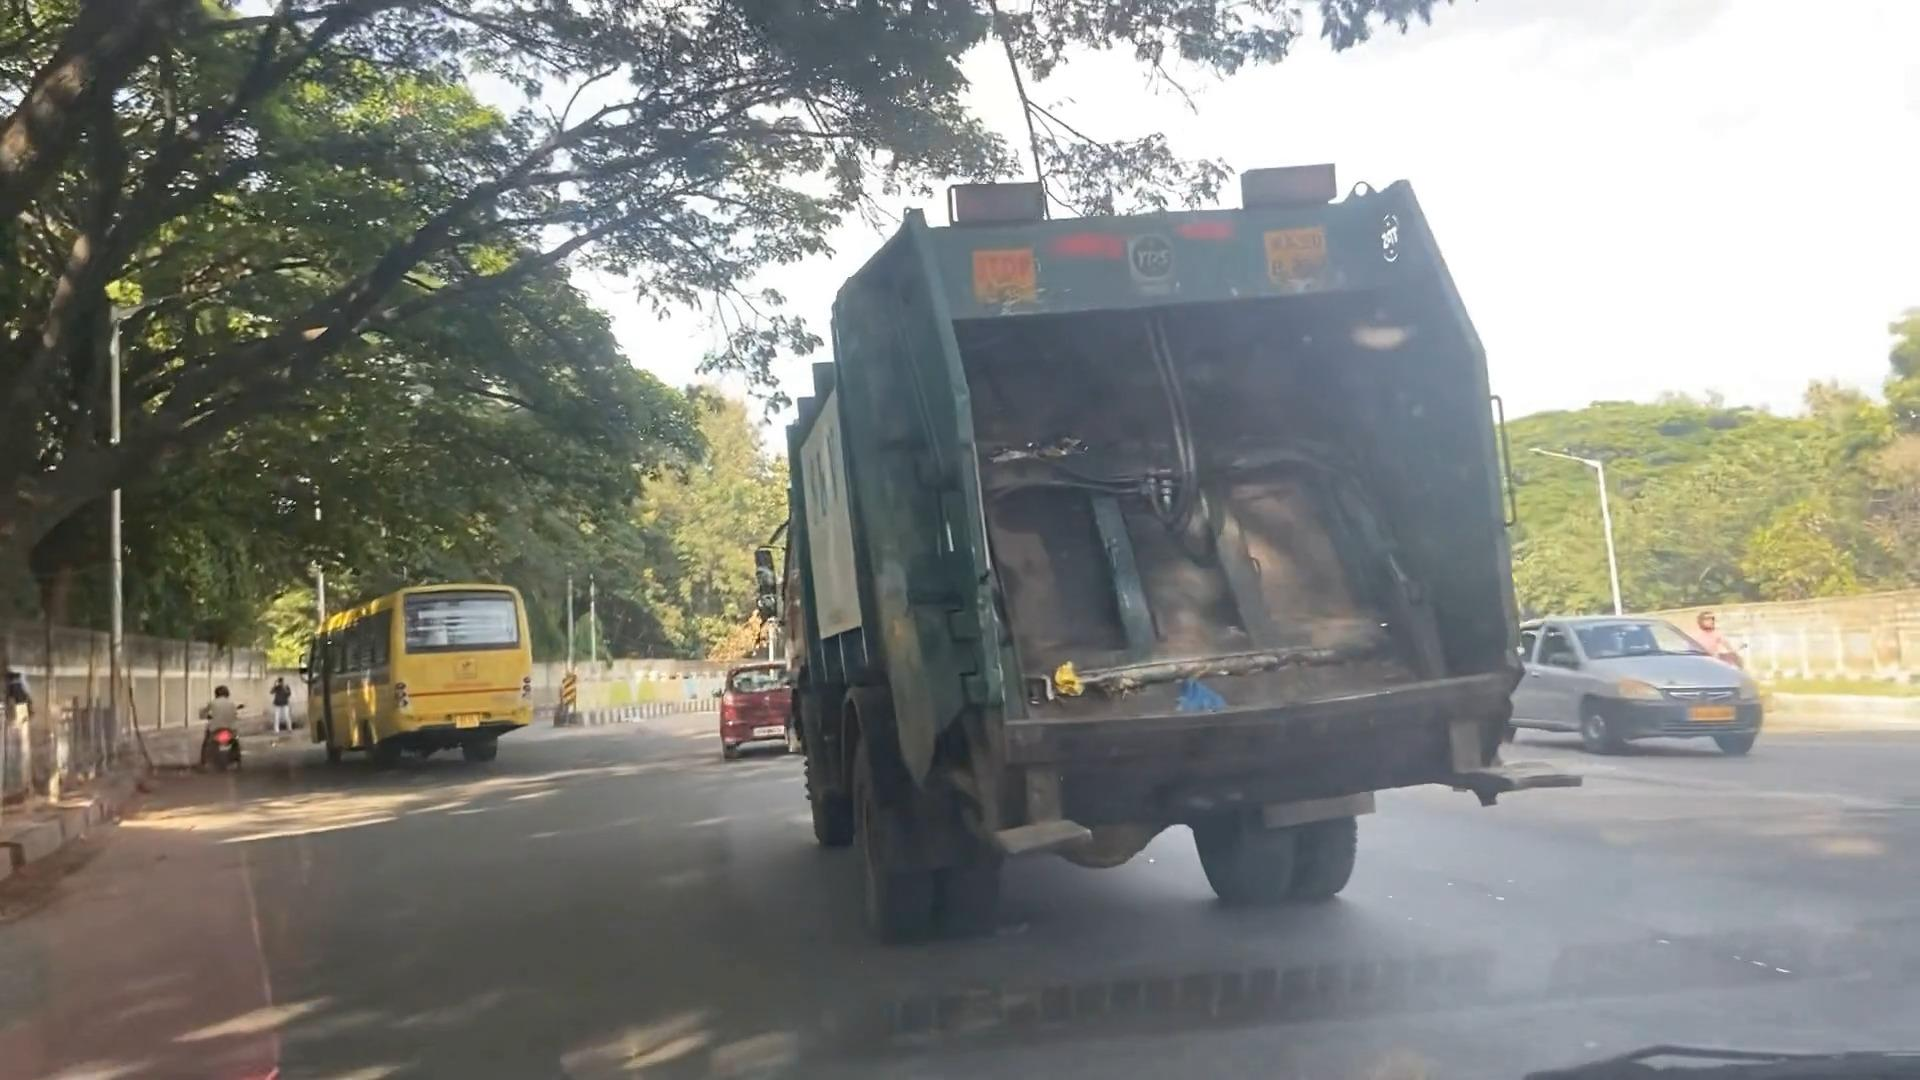HMV: (766, 165, 1497, 914), (293, 607, 527, 756)
